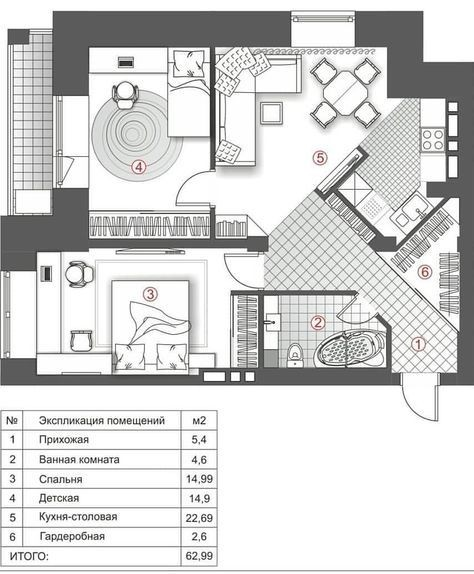door: (401, 368, 450, 428), (221, 246, 275, 293), (170, 164, 225, 210), (327, 293, 383, 335)
room: (211, 45, 474, 237), (3, 236, 267, 387), (269, 235, 474, 389), (89, 42, 210, 252)
wall: (50, 2, 294, 55), (454, 60, 474, 389), (386, 45, 474, 102), (48, 4, 97, 102), (386, 5, 434, 103), (355, 4, 442, 53), (87, 236, 271, 257), (258, 364, 394, 391), (1, 371, 202, 389), (44, 185, 91, 258), (1, 210, 39, 274), (205, 47, 223, 172), (253, 288, 270, 389), (231, 286, 361, 298), (2, 358, 40, 393), (426, 177, 474, 203), (440, 367, 474, 385)
window: (50, 96, 97, 190), (1, 271, 47, 357), (291, 8, 361, 56), (201, 370, 260, 388)
